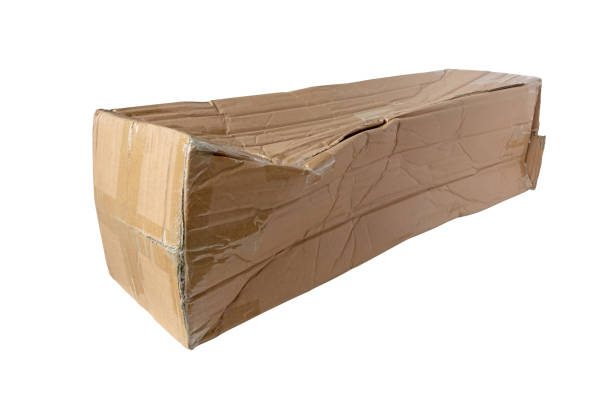damaged package: (191, 113, 383, 170), (523, 119, 548, 187)
